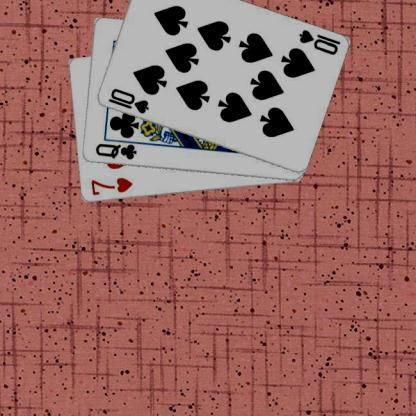10S: (295, 27, 341, 56), (105, 86, 150, 115)
7H: (88, 176, 134, 197)
QC: (92, 141, 138, 161)
